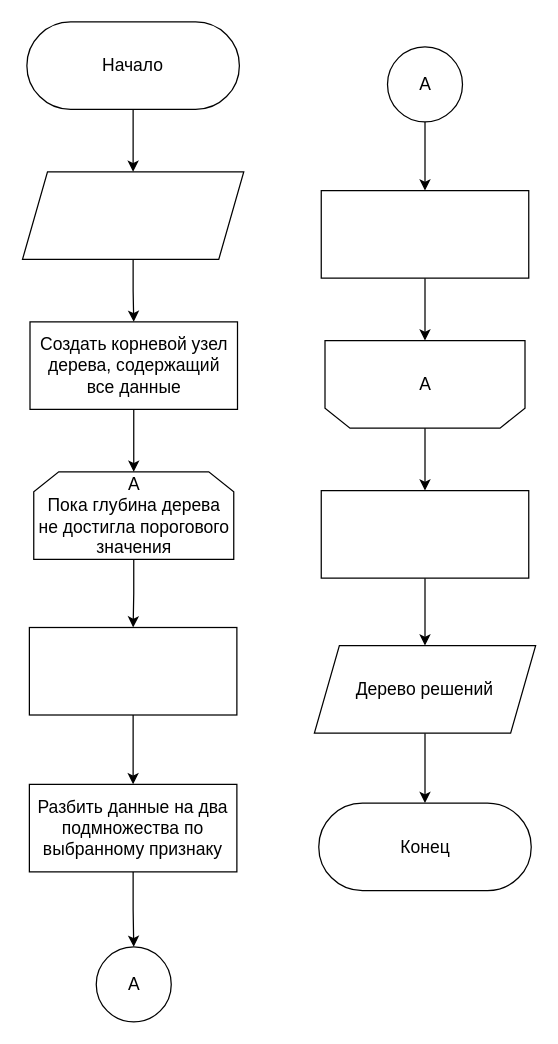
Some shapes in this 558 by 1044 pixel diagram are drawn without their labels. Here are the shapes that lost their labels. From the top down, the centre of each, then its label:
At pixel 132 215: "Набор метрик (матрица чисел)".
At pixel 424 233: "Создать дочерние узлы для каждого подмножества".
At pixel 424 533: "Указать в листовых узлах наиболее встречающийся класс".
At pixel 132 670: "Выбрать признак для разделения данных на основе критерия Джини".
